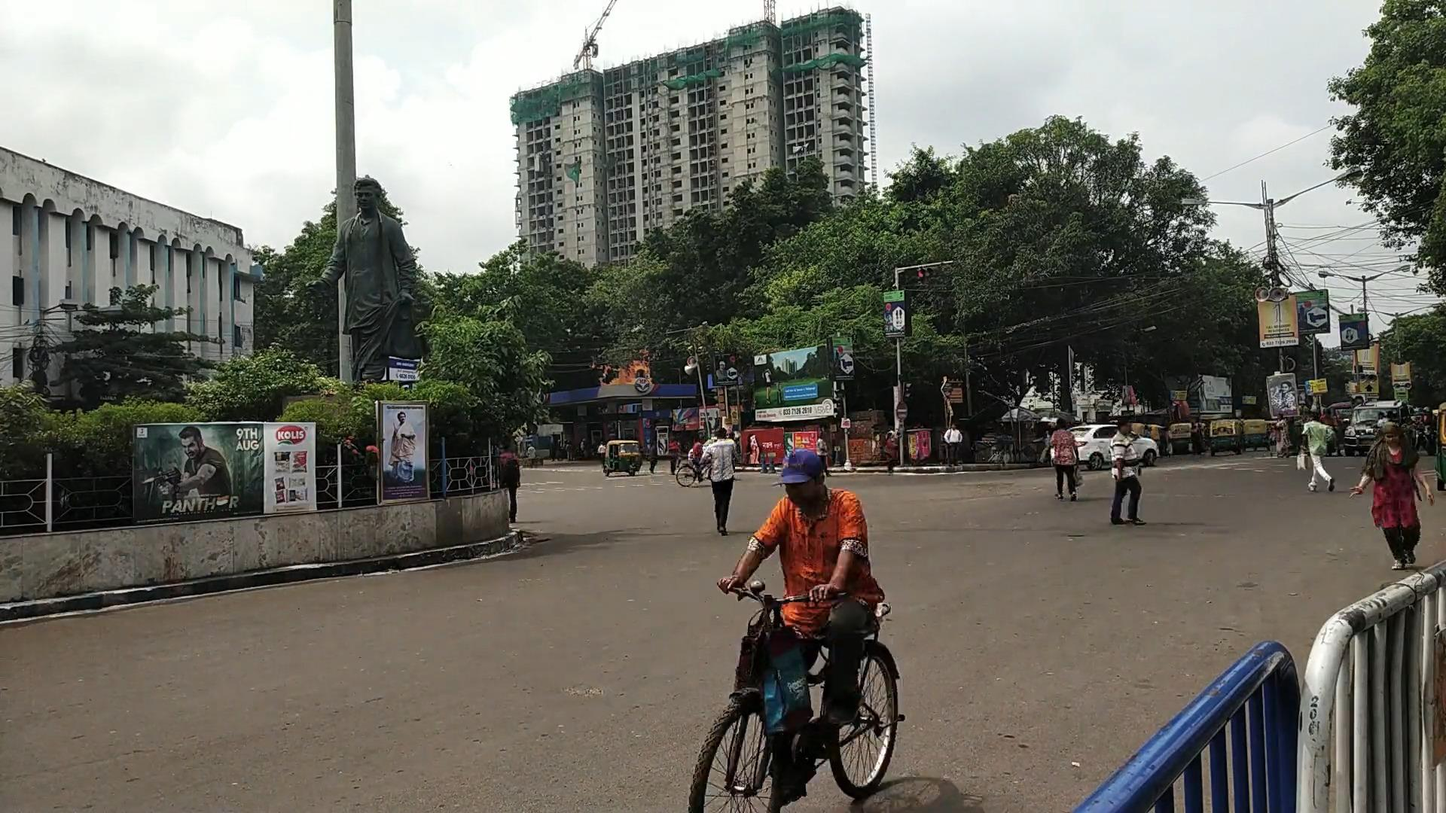bicyclist: (688, 449, 905, 813)
no-helmet: (772, 448, 825, 508)
